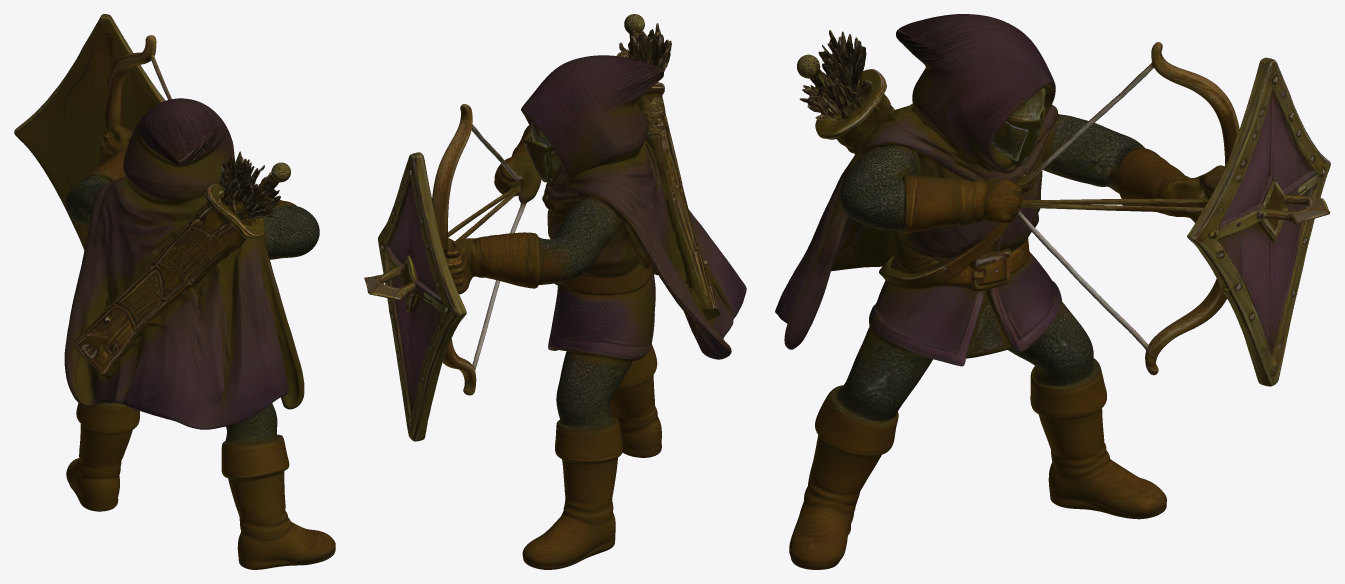
The picture shows the model from 3 angles, left to right: view 1: azimuth 30°, elevation 25°; view 2: azimuth 150°, elevation 25°; view 3: azimuth 270°, elevation 25°; orthographic projection. The views are drawn at different scales.
Visible parts, largest first — view 1: tripo_node_1477b1e8-5d90-4822-9a6e-bbe4f2f38f2a; view 2: tripo_node_1477b1e8-5d90-4822-9a6e-bbe4f2f38f2a; view 3: tripo_node_1477b1e8-5d90-4822-9a6e-bbe4f2f38f2a.
Part boxes in pixels (bbox=[...]): tripo_node_1477b1e8-5d90-4822-9a6e-bbe4f2f38f2a: bbox=[14, 14, 335, 569]; tripo_node_1477b1e8-5d90-4822-9a6e-bbe4f2f38f2a: bbox=[364, 14, 746, 569]; tripo_node_1477b1e8-5d90-4822-9a6e-bbe4f2f38f2a: bbox=[775, 14, 1330, 569].
Bounding box in the file's own units: 0.5705 × 1 × 0.9842.
Materials: 1 (1 with a texture image).
